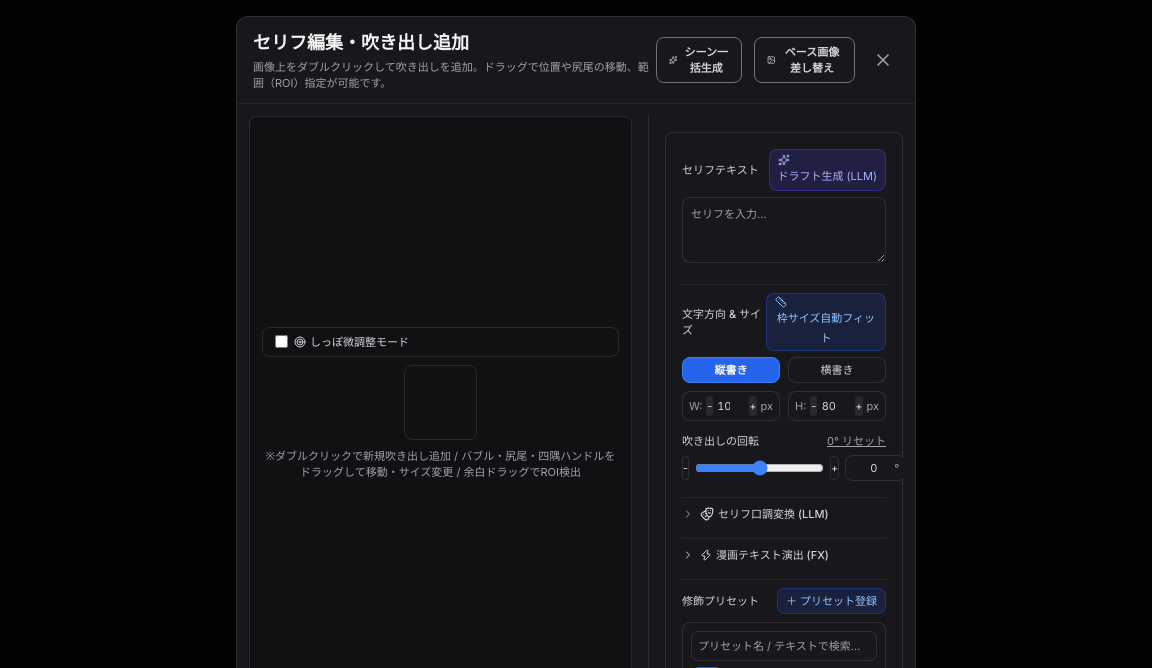
SpeechBubbleEditorModal › opens BaseImageSelectModal and replaces base image when a snapshot is selected
// Click base image replacement button
Step 1. Click the button "ベース画像差し替え" → (805, 60), box [754,37,855,83]
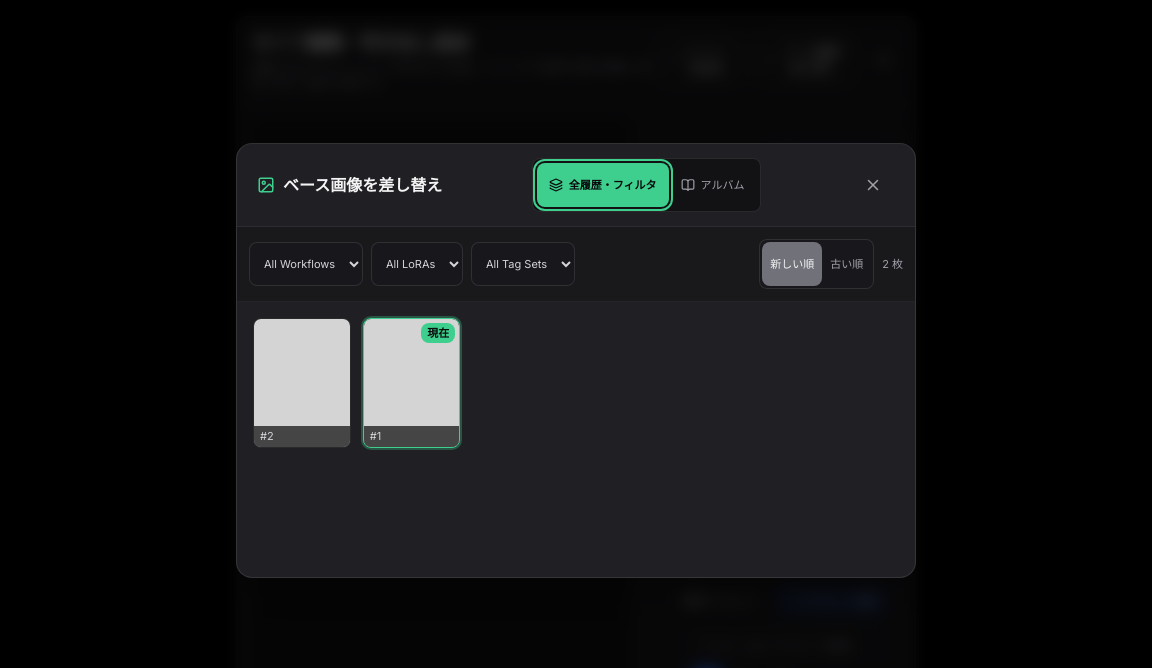
Expected: the heading "ベース画像を差し替え" is shown, [283,172,442,196]
// Select snapshot #2
Step 2. Click the button "#2" → (302, 383), box [253,318,351,448]
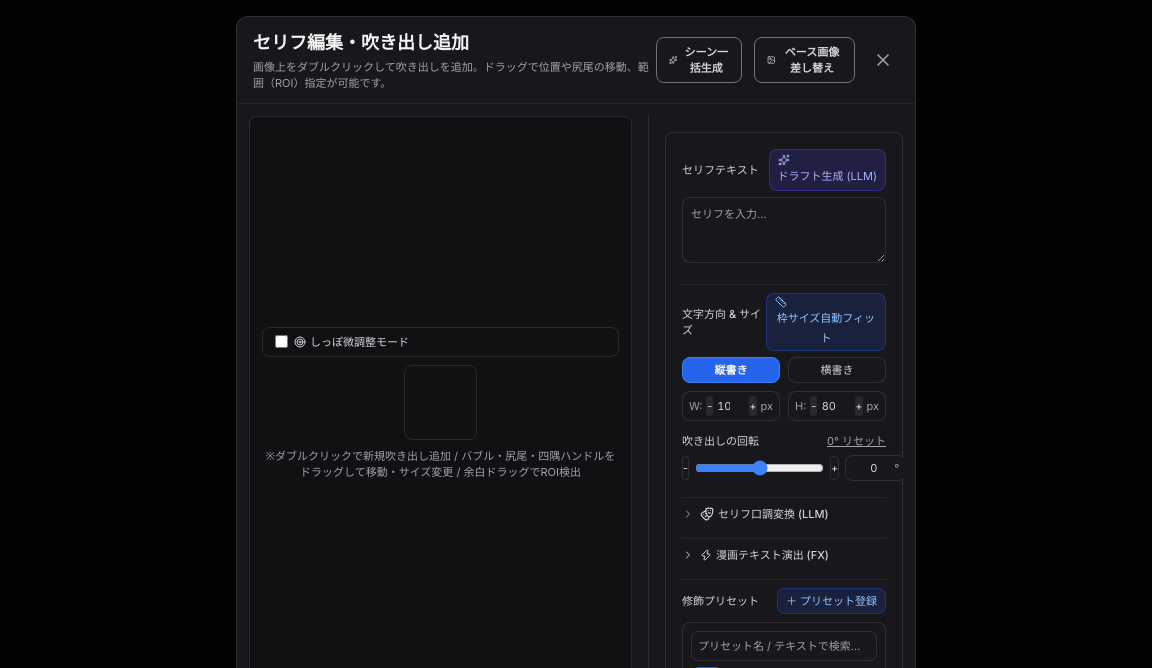
Expected: the heading "ベース画像を差し替え" is gone
